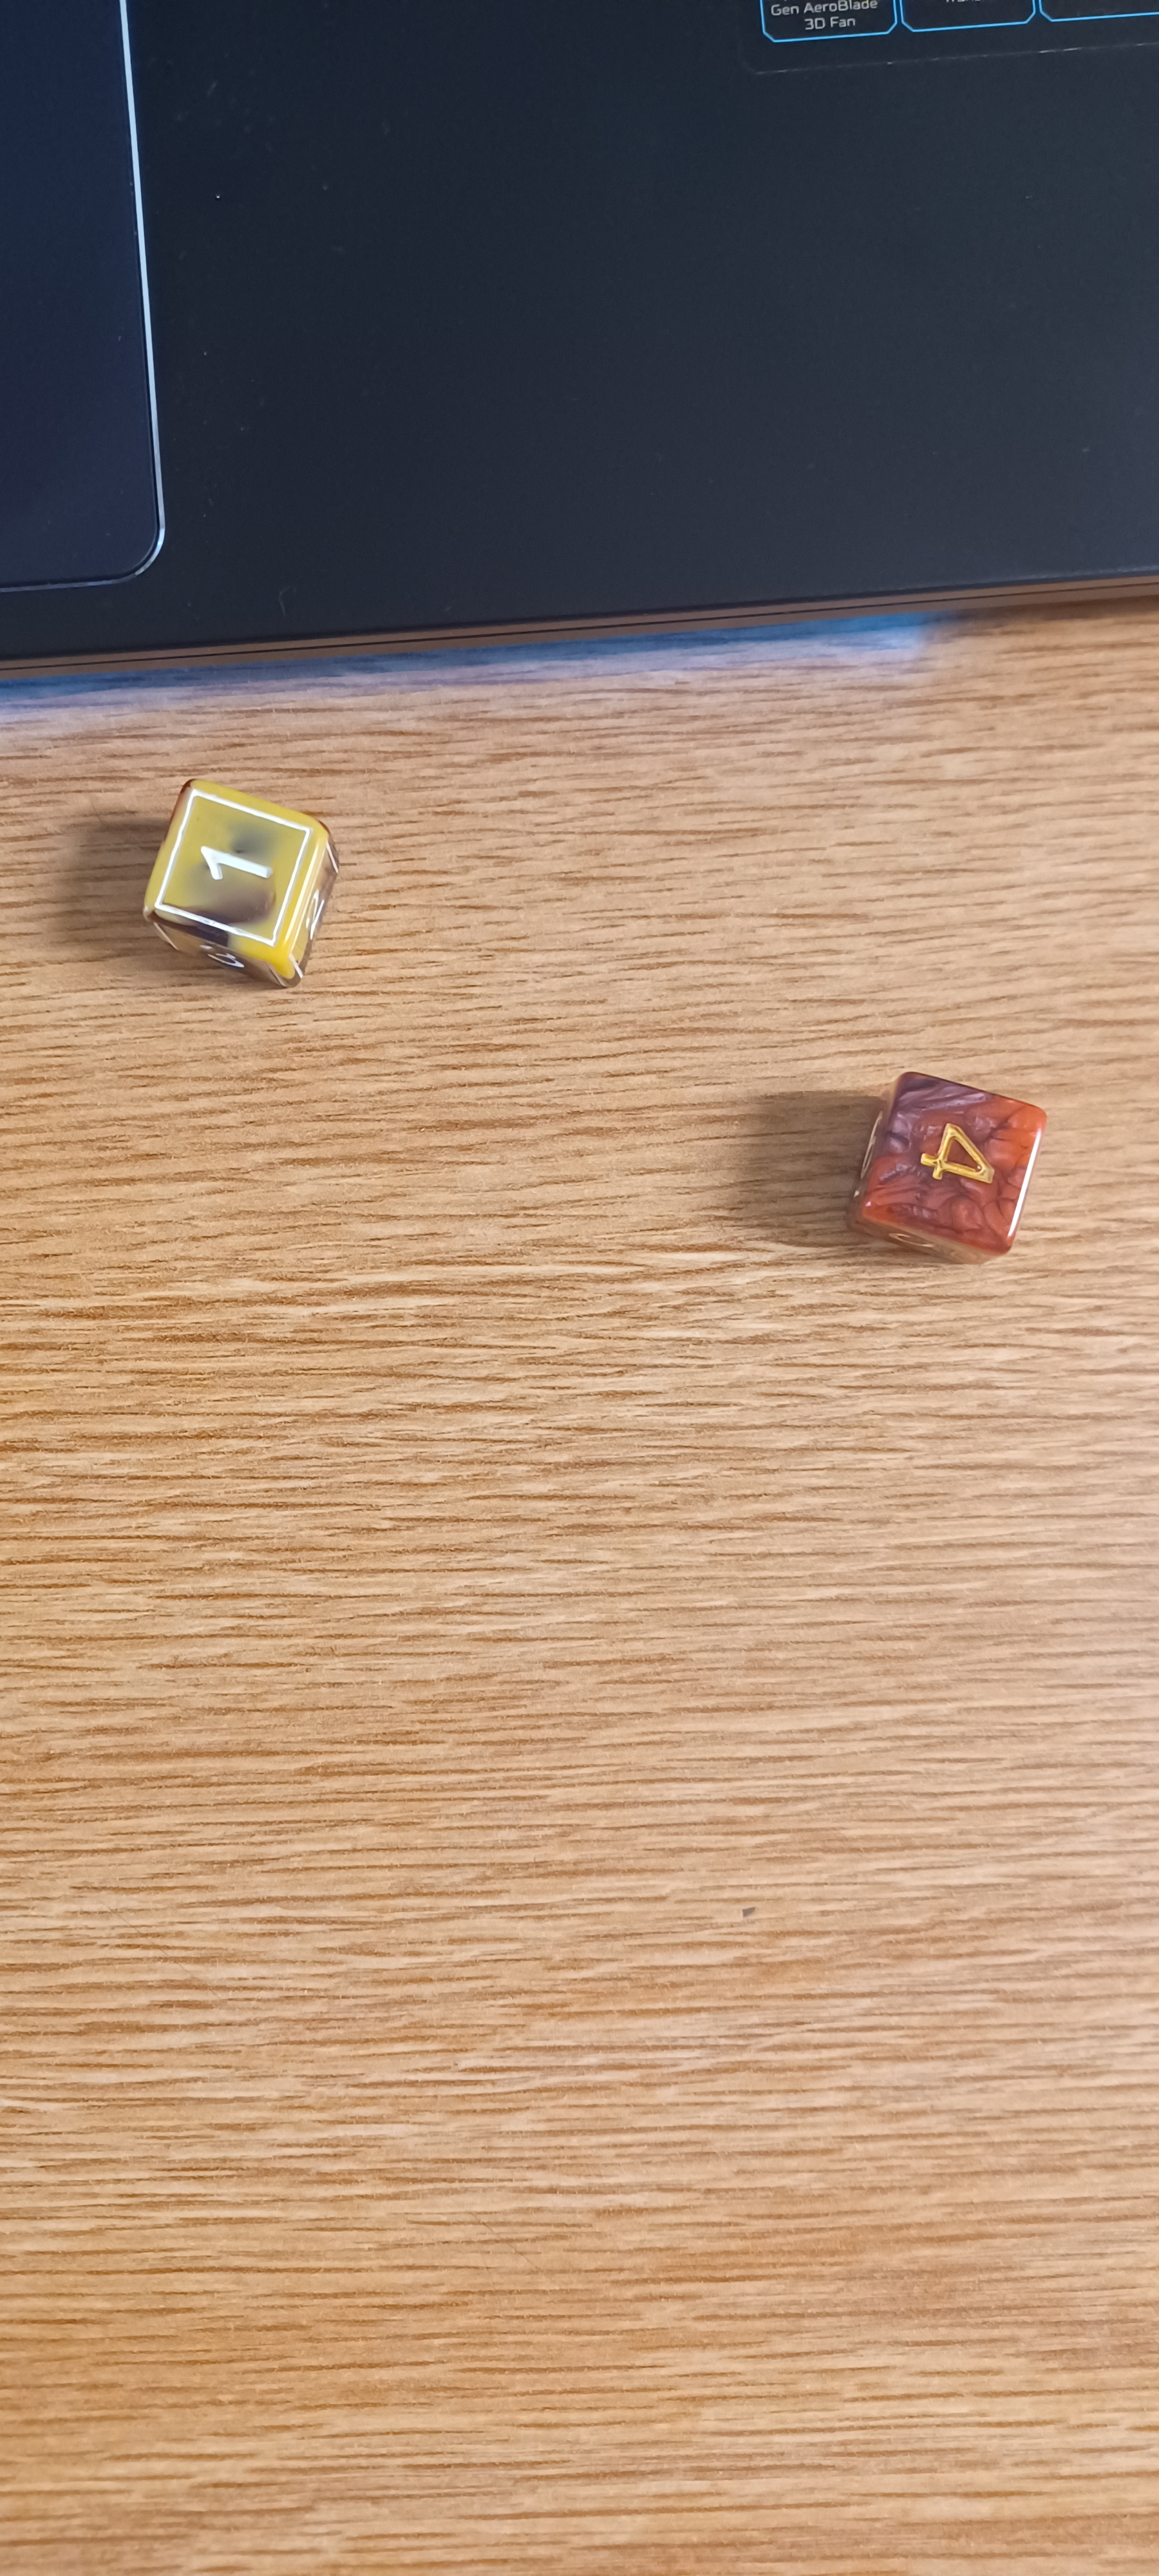four: (780, 1030, 1118, 1309)
one: (74, 736, 407, 1038)
